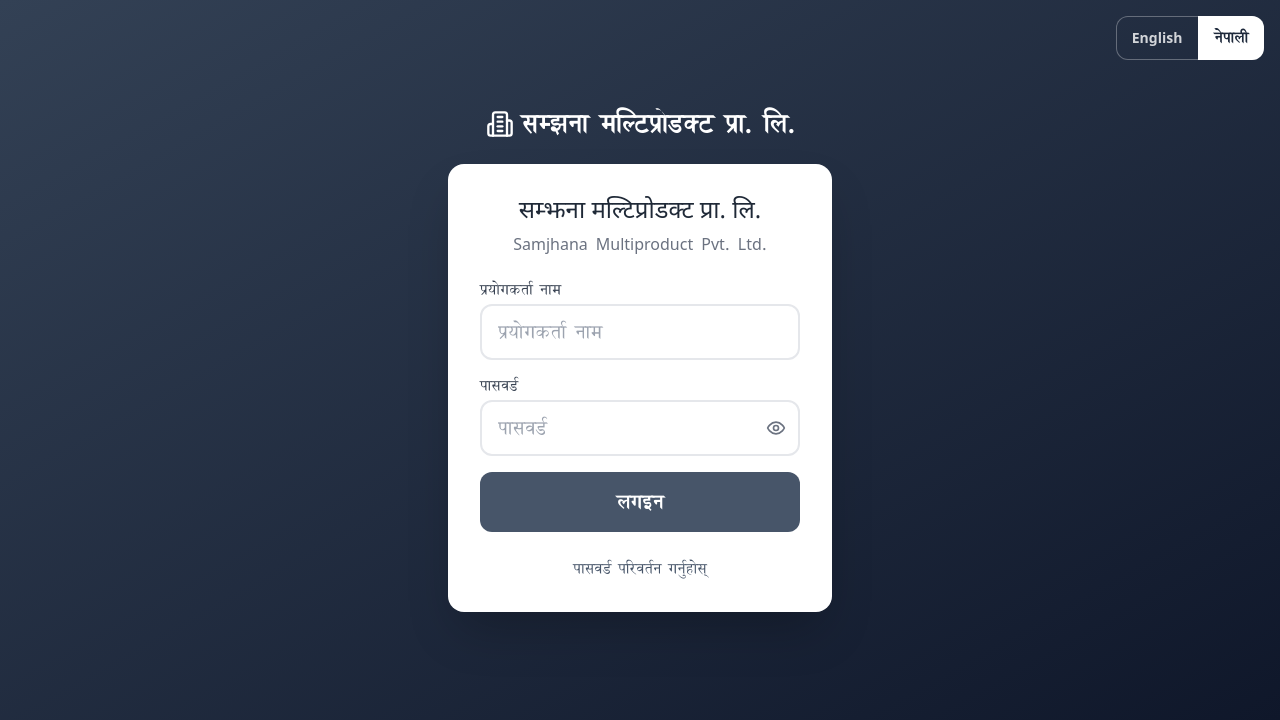
Test: LoginPage › explains the lockout in Nepali
This screenshot has width=1280, height=720.
Type "admin" into the field at [640, 332], box [480, 304, 800, 360]
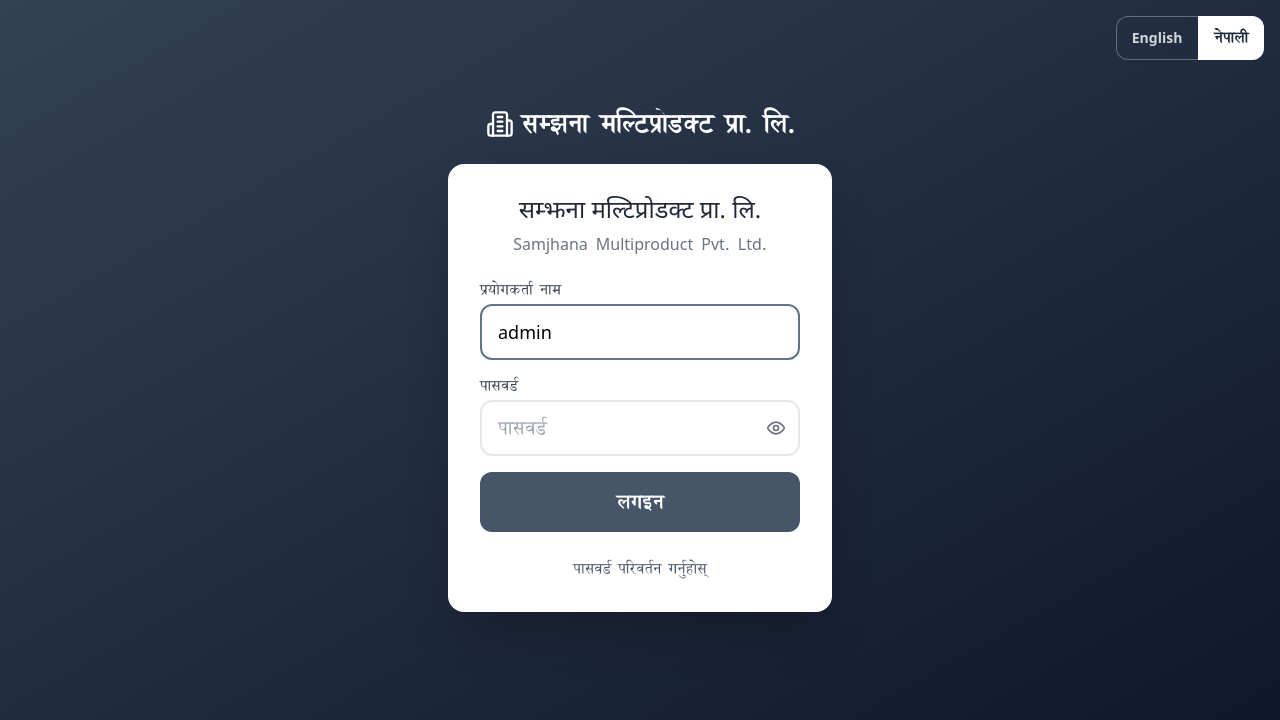
Type "guess" into the password field with placeholder "पासवर्ड" at [640, 428], box [480, 400, 800, 456]
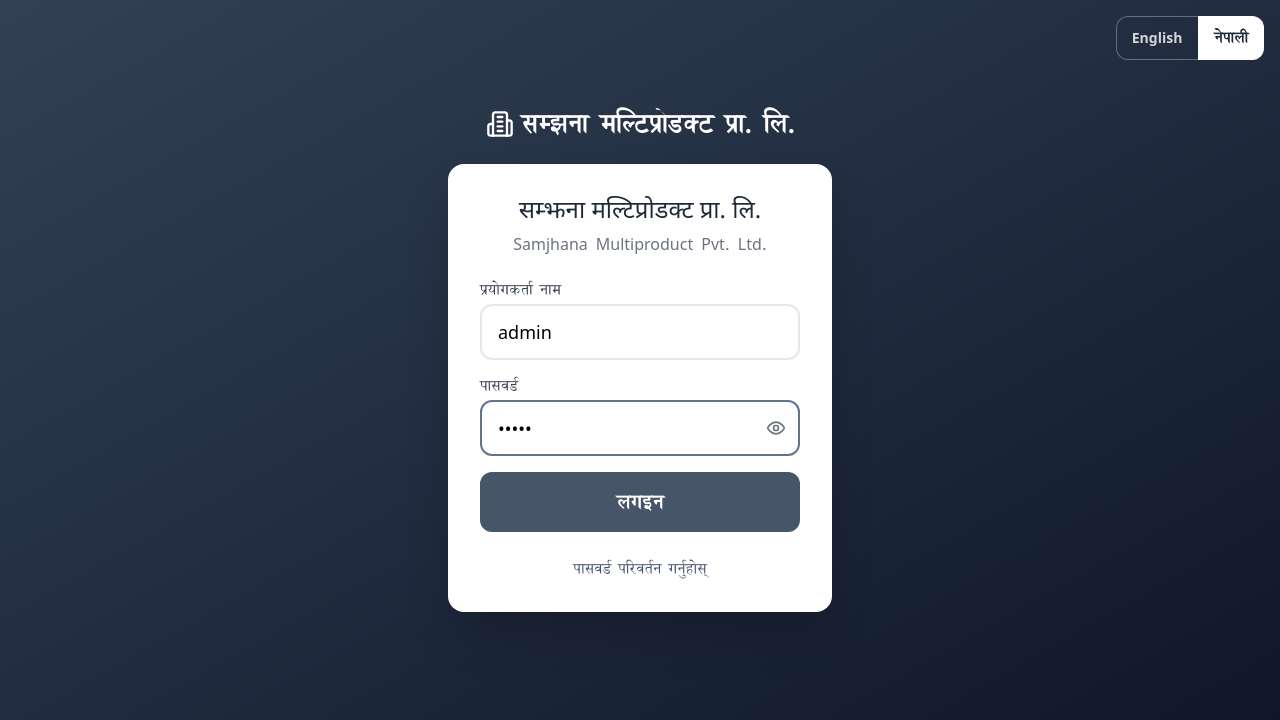
Click the submit button at [640, 502], box [480, 472, 800, 532]
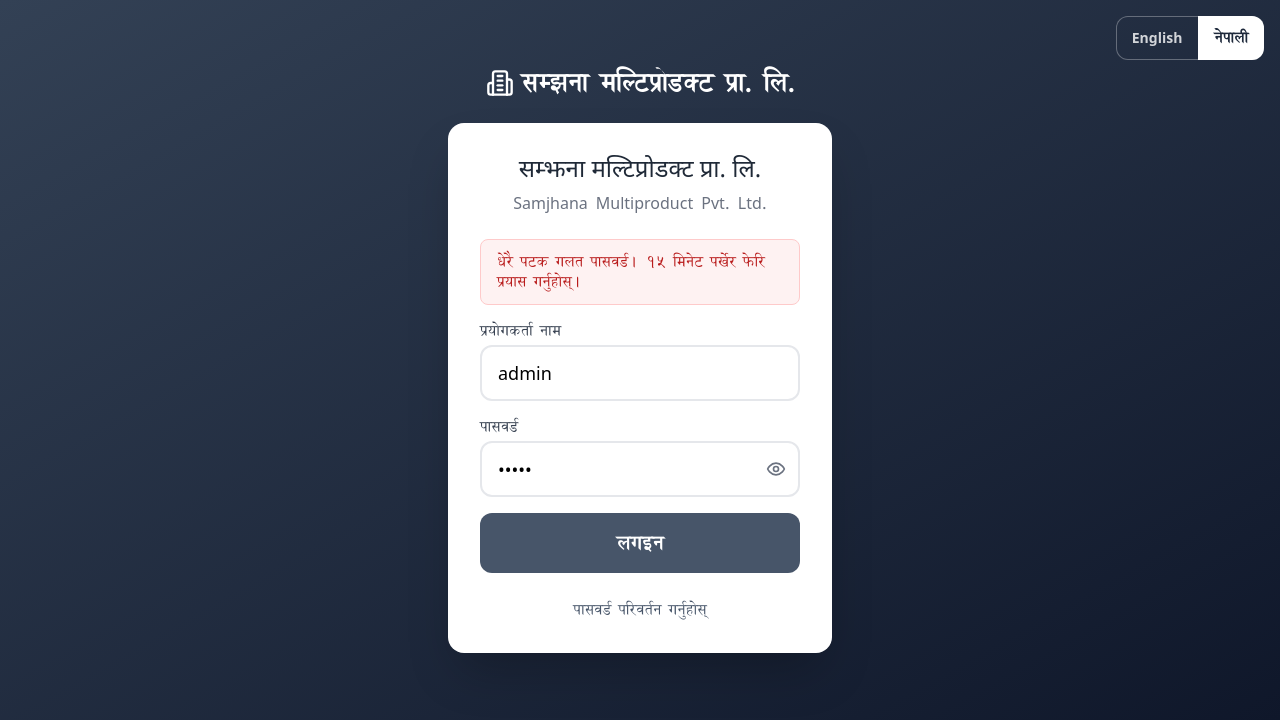
Expected: the text "धेरै पटक गलत पासवर्ड। १५ मिनेट पर्खेर फेरि प्रयास गर्नुहोस्।" is shown, [480, 239, 800, 305]
